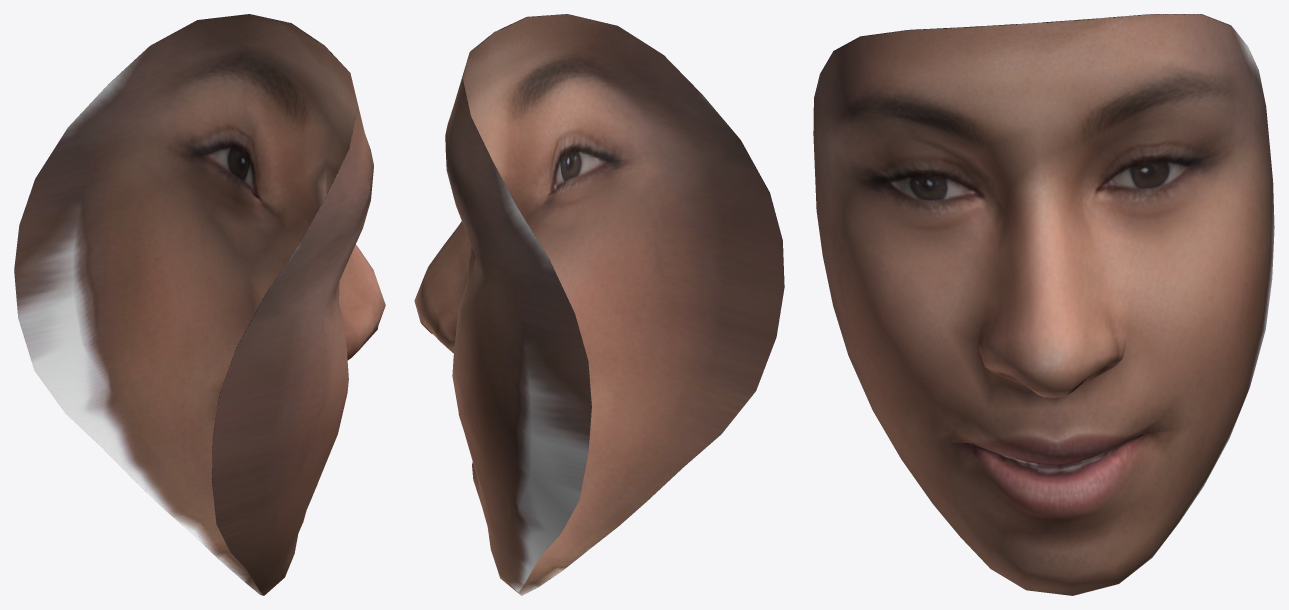
The model's file is bigo_usa.glb.
3 renders of one model, left to right at view 1: azimuth 30°, elevation 25°; view 2: azimuth 150°, elevation 25°; view 3: azimuth 270°, elevation 25°, orthographic. The views are drawn at different scales.
Visible parts, largest first — view 1: bigo_usa; view 2: bigo_usa; view 3: bigo_usa.
Part boxes in pixels (box(x1,y1,x2,y2)): bigo_usa: box(14, 14, 385, 595); bigo_usa: box(414, 14, 784, 595); bigo_usa: box(813, 14, 1274, 595).
Size of the model in its own units: 0.453 by 0.8656 by 0.5934.
1 material, 1 textured.
